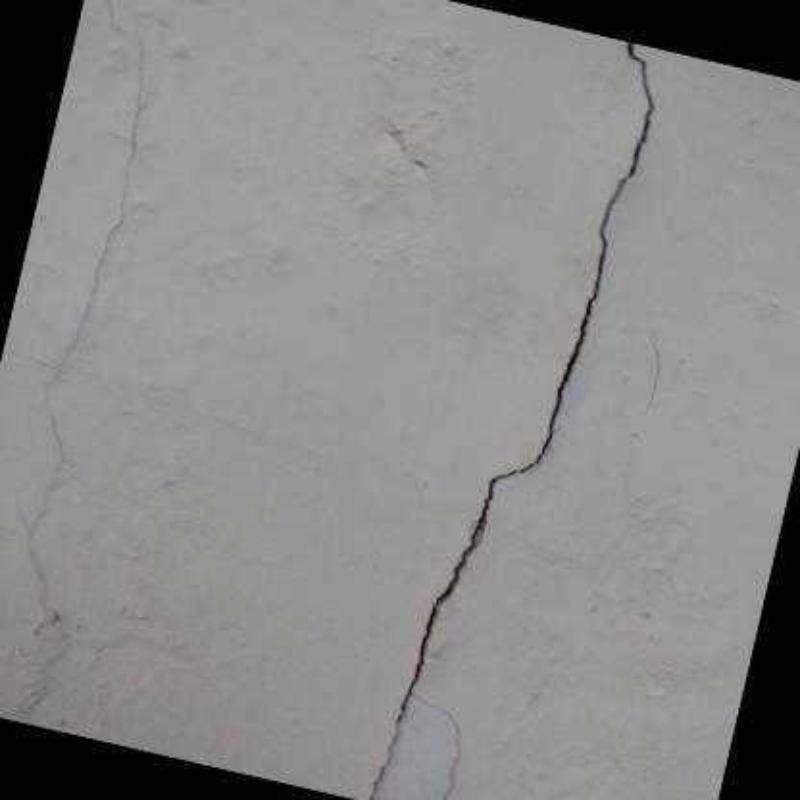crack: (367, 41, 653, 798), (25, 2, 144, 621), (412, 690, 462, 798)
